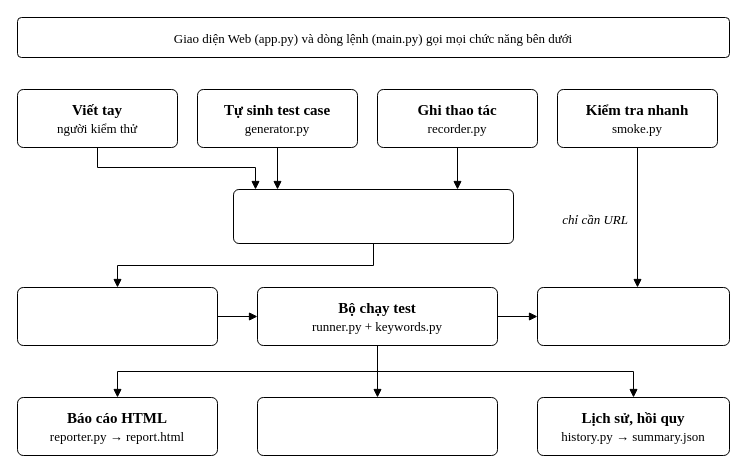
Image size: 747x473. Some labels were removed from this diagram. The centre of each missing label's shape, as x and y in pixels:
"Kết quả Excel excel_report.py → ket_qua.xlsx" belongs at point (377, 426).
"Kịch bản Excel (.xlsx) mỗi sheet một test case, sheet DATA" belongs at point (373, 216).
"Trình duyệt thật Playwright: 3 trình duyệt" belongs at point (633, 316).
"Đọc kịch bản reader.py, thay biến DATA" belongs at point (117, 316).
